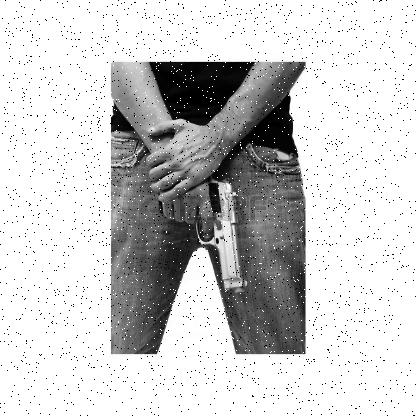gun: (160, 175, 244, 291)
